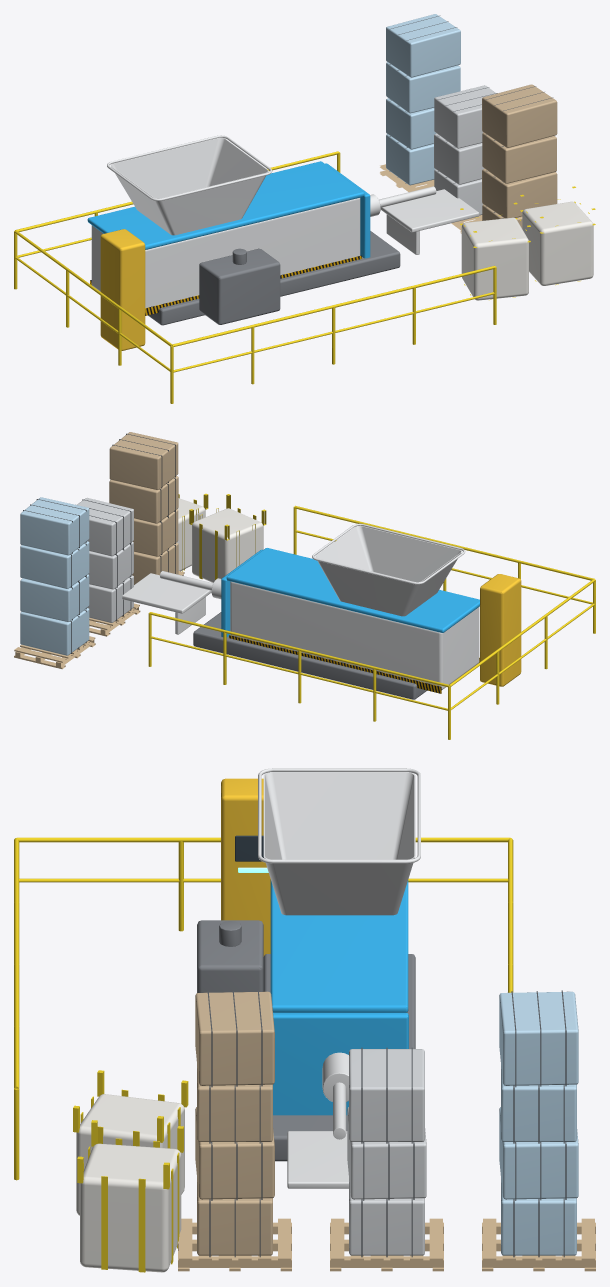
The model's file is salida.glb.
3 views of the same model, one above another, from view 1: azimuth 30°, elevation 25°; view 2: azimuth 150°, elevation 25°; view 3: azimuth 270°, elevation 25° (orthographic). The views are drawn at different scales.
Visible parts, largest first — view 1: blanco, bolsa_blanca, paca_pet, paca_carton, acero_oscuro, acento_azul, amarillo_seg, paca_alu, acento_ambar, acero, pintura_peligro, madera (+1 smaller); view 2: blanco, paca_pet, paca_carton, amarillo_seg, acento_azul, paca_alu, bolsa_blanca, acento_ambar, acero_oscuro, acero, madera, llanta (+1 smaller); view 3: acento_azul, blanco, paca_carton, paca_pet, paca_alu, bolsa_blanca, amarillo_seg, madera, acero_oscuro, acento_ambar, acero, llanta (+1 smaller).
Part boxes in pixels (x1,y1,x2,y2): blanco: (91, 135, 360, 307); bolsa_blanca: (461, 201, 593, 300); paca_pet: (386, 14, 460, 185); paca_carton: (482, 84, 557, 228); acero_oscuro: (148, 231, 400, 325); acento_azul: (87, 161, 370, 258); amarillo_seg: (14, 151, 595, 403); paca_alu: (434, 85, 496, 215); acento_ambar: (100, 229, 145, 350); acero: (370, 186, 479, 254); pintura_peligro: (90, 255, 361, 315); madera: (380, 164, 482, 233); blanco: (230, 523, 479, 689); paca_pet: (20, 497, 89, 655); paca_carton: (109, 432, 178, 584); amarillo_seg: (148, 493, 595, 739); acento_azul: (221, 548, 479, 637); paca_alu: (77, 497, 133, 622); bolsa_blanca: (176, 498, 263, 582); acento_ambar: (480, 574, 521, 686); acero_oscuro: (193, 612, 426, 699); acero: (122, 571, 221, 634); madera: (14, 571, 184, 669); llanta: (23, 433, 175, 653); acento_azul: (270, 879, 408, 1115); blanco: (258, 768, 420, 915); paca_carton: (195, 991, 274, 1255); paca_pet: (499, 991, 578, 1255); paca_alu: (347, 1049, 426, 1255); bolsa_blanca: (76, 1094, 184, 1272); amarillo_seg: (14, 837, 513, 1272); madera: (178, 1218, 595, 1271); acero_oscuro: (197, 920, 415, 1161); acento_ambar: (221, 778, 270, 956); acero: (287, 1052, 348, 1188); llanta: (207, 990, 566, 1257).
Size of the model in its own units: 8.69 by 2.79 by 6.13.
15 materials, 1 textured.
